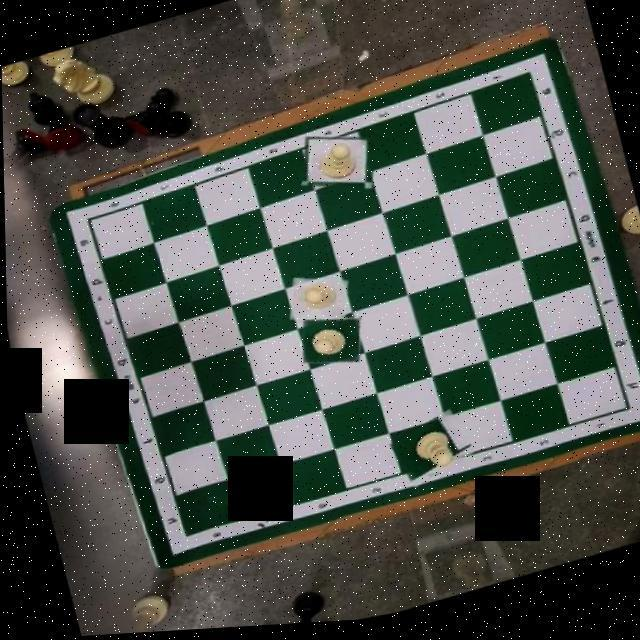chess-table-corners: (72, 205, 105, 239), (605, 400, 640, 432), (166, 520, 197, 554), (512, 62, 541, 96)
